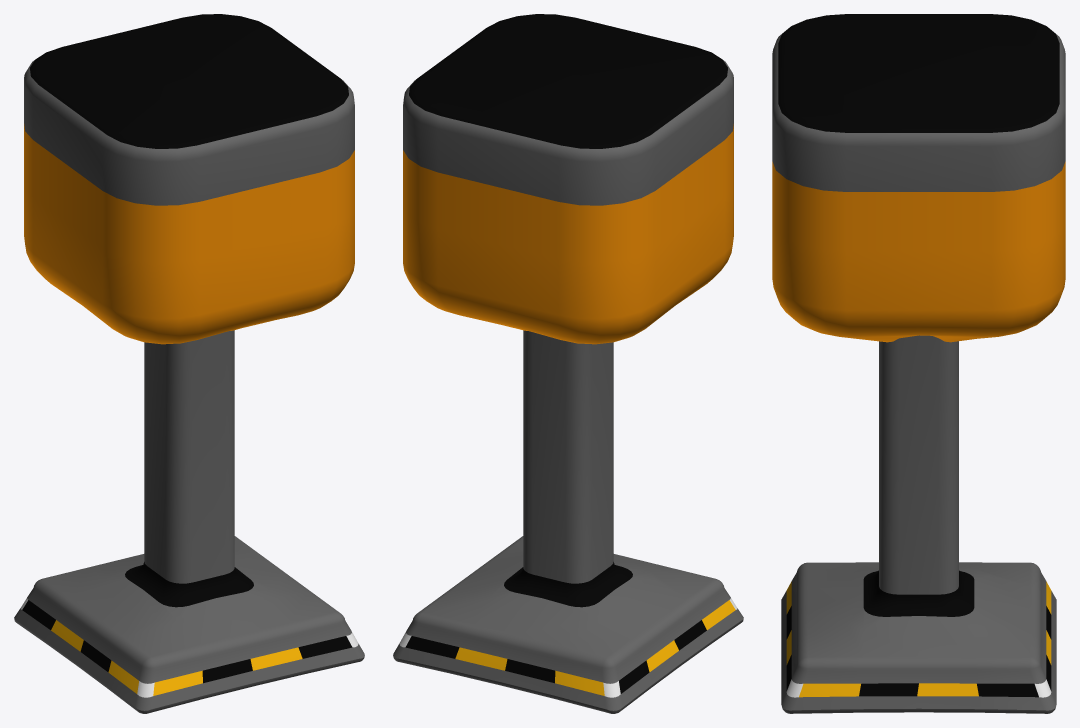
Rendered from press.fbx.
3 views of the same model, side by side, from view 1: azimuth 30°, elevation 25°; view 2: azimuth 150°, elevation 25°; view 3: azimuth 270°, elevation 25° (orthographic). The views are drawn at different scales.
Parts seen in each view (by area): view 1: hammer top, hammer main; view 2: hammer top, hammer main; view 3: hammer top, hammer main.
Part boxes in pixels (x1,y1,x2,y2): hammer top: [24, 14, 354, 344]; hammer main: [14, 330, 364, 713]; hammer top: [403, 14, 733, 344]; hammer main: [393, 330, 743, 713]; hammer top: [772, 14, 1065, 342]; hammer main: [781, 335, 1056, 713].
Size of the model in its own units: 213 by 472 by 213.
